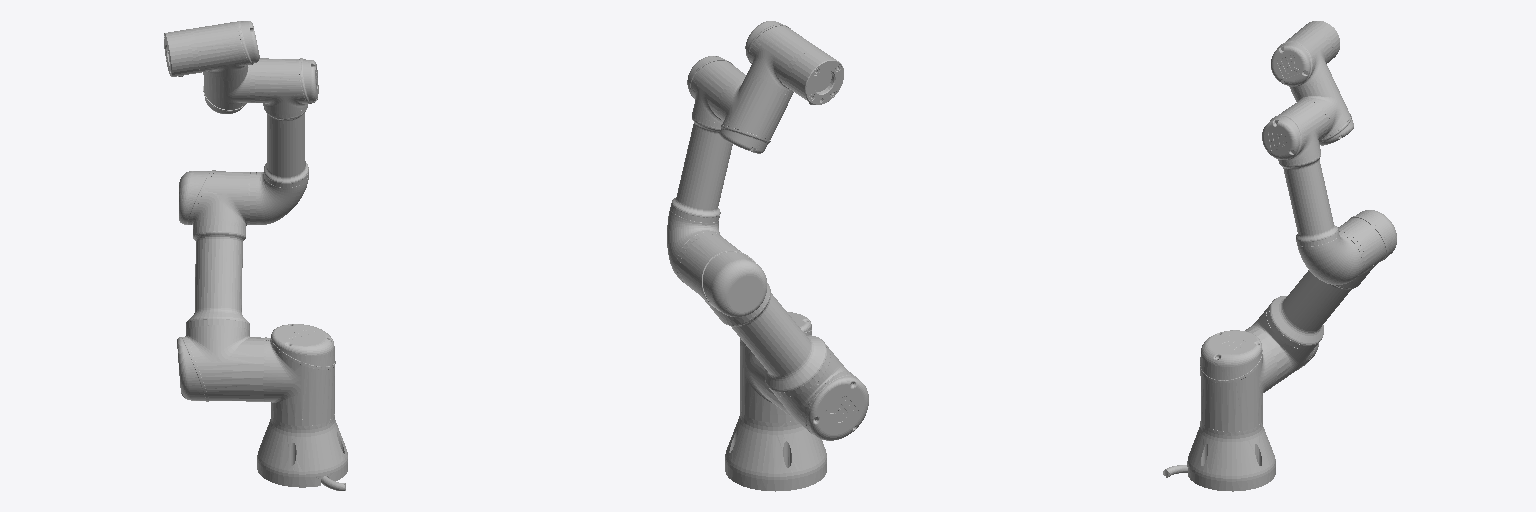
The robot description file, URDF, robot "ur33":
<?xml version="1.0" encoding="utf-8"?>
<!-- This URDF was automatically created by SolidWorks to URDF Exporter! Originally created by [author] ([email redacted]) 
     Commit Version: 1.6.0-4-g7f85cfe  Build Version: 1.6.7995.38578
     For more information, please see http://wiki.ros.org/sw_urdf_exporter -->
<robot
  name="ur33">
  <link
    name="base_link">
    <inertial>
      <origin
        xyz="3.93116168057695E-05 0.046220310995705 0.000808491080125992"
        rpy="0 0 0" />
      <mass
        value="0.615785283013906" />
      <inertia
        ixx="0.000761300764311581"
        ixy="3.53676883539907E-07"
        ixz="-2.98963200654779E-07"
        iyy="0.00100294058166069"
        iyz="3.46585976118834E-06"
        izz="0.000774576499049897" />
    </inertial>
    <visual>
      <origin
        xyz="0 0 0"
        rpy="0 0 0" />
      <geometry>
        <mesh
          filename="package://ur33/meshes/base_link.STL" />
      </geometry>
      <material
        name="">
        <color
          rgba="0.752941176470588 0.752941176470588 0.752941176470588 1" />
      </material>
    </visual>
    <collision>
      <origin
        xyz="0 0 0"
        rpy="0 0 0" />
      <geometry>
        <mesh
          filename="package://ur33/meshes/base_link.STL" />
      </geometry>
    </collision>
  </link>
  <link
    name="link1">
    <inertial>
      <origin
        xyz="6.40625775913872E-06 0.054270421113684 -0.0073384897831299"
        rpy="0 0 0" />
      <mass
        value="0.755651972571794" />
      <inertia
        ixx="0.00106903797369433"
        ixy="9.48353620032472E-08"
        ixz="9.89315736653741E-08"
        iyy="0.000906485139777163"
        iyz="0.000131067701862536"
        izz="0.000990118676481056" />
    </inertial>
    <visual>
      <origin
        xyz="0 0 0"
        rpy="0 0 0" />
      <geometry>
        <mesh
          filename="package://ur33/meshes/link1.STL" />
      </geometry>
      <material
        name="">
        <color
          rgba="0.752941176470588 0.752941176470588 0.752941176470588 1" />
      </material>
    </visual>
    <collision>
      <origin
        xyz="0 0 0"
        rpy="0 0 0" />
      <geometry>
        <mesh
          filename="package://ur33/meshes/link1.STL" />
      </geometry>
    </collision>
  </link>
  <joint
    name="joint1"
    type="continuous">
    <origin
      xyz="0 0 0.08605"
      rpy="1.5708 0 1.0203" />
    <parent
      link="base_link" />
    <child
      link="link1" />
    <axis
      xyz="0 -1 0" />
    <limit
      lower="-3.14"
      upper="3.14"
      effort="100"
      velocity="2" />
  </joint>
  <link
    name="link2">
    <inertial>
      <origin
        xyz="-3.40662919534607E-06 0.105709589894391 -0.116589773897471"
        rpy="0 0 0" />
      <mass
        value="1.80164817391607" />
      <inertia
        ixx="0.00264980120870353"
        ixy="1.00358855444061E-07"
        ixz="8.54007575295211E-08"
        iyy="0.00166988003581637"
        iyz="8.10906621570899E-05"
        izz="0.0025172679877967" />
    </inertial>
    <visual>
      <origin
        xyz="0 0 0"
        rpy="0 0 0" />
      <geometry>
        <mesh
          filename="package://ur33/meshes/link2.STL" />
      </geometry>
      <material
        name="">
        <color
          rgba="0.752941176470588 0.752941176470588 0.752941176470588 1" />
      </material>
    </visual>
    <collision>
      <origin
        xyz="0 0 0"
        rpy="0 0 0" />
      <geometry>
        <mesh
          filename="package://ur33/meshes/link2.STL" />
      </geometry>
    </collision>
  </link>
  <joint
    name="joint2"
    type="continuous">
    <origin
      xyz="0 0.06585 0"
      rpy="0 0 -0.6205" />
    <parent
      link="link1" />
    <child
      link="link2" />
    <axis
      xyz="0 0 1" />
    <limit
      lower="-3.14"
      upper="3.14"
      effort="100"
      velocity="2" />
  </joint>
  <link
    name="link3">
    <inertial>
      <origin
        xyz="2.24339715593214E-06 0.111202714258687 -0.0317831977238209"
        rpy="0 0 0" />
      <mass
        value="0.962318952715275" />
      <inertia
        ixx="0.00107272032844326"
        ixy="2.02715758953269E-08"
        ixz="4.87756162548128E-09"
        iyy="0.000542662095833821"
        iyz="-4.61078716735541E-05"
        izz="0.00101486278864245" />
    </inertial>
    <visual>
      <origin
        xyz="0 0 0"
        rpy="0 0 0" />
      <geometry>
        <mesh
          filename="package://ur33/meshes/link3.STL" />
      </geometry>
      <material
        name="">
        <color
          rgba="0.752941176470588 0.752941176470588 0.752941176470588 1" />
      </material>
    </visual>
    <collision>
      <origin
        xyz="0 0 0"
        rpy="0 0 0" />
      <geometry>
        <mesh
          filename="package://ur33/meshes/link3.STL" />
      </geometry>
    </collision>
  </link>
  <joint
    name="joint3"
    type="continuous">
    <origin
      xyz="0 0.24365 0"
      rpy="0 0 0.8683" />
    <parent
      link="link2" />
    <child
      link="link3" />
    <axis
      xyz="0 0 1" />
    <limit
      lower="-3.14"
      upper="3.14"
      effort="100"
      velocity="2" />
  </joint>
  <link
    name="link4">
    <inertial>
      <origin
        xyz="-6.99518387436981E-06 -0.000517780620435226 -0.0835319337644838"
        rpy="0 0 0" />
      <mass
        value="0.32531348575404" />
      <inertia
        ixx="0.000226231397858026"
        ixy="-2.0344125053814E-09"
        ixz="2.89652917661909E-09"
        iyy="0.000199092283222693"
        iyz="1.83494653286662E-05"
        izz="0.000194599812294664" />
    </inertial>
    <visual>
      <origin
        xyz="0 0 0"
        rpy="0 0 0" />
      <geometry>
        <mesh
          filename="package://ur33/meshes/link4.STL" />
      </geometry>
      <material
        name="">
        <color
          rgba="0.752941176470588 0.752941176470588 0.752941176470588 1" />
      </material>
    </visual>
    <collision>
      <origin
        xyz="0 0 0"
        rpy="0 0 0" />
      <geometry>
        <mesh
          filename="package://ur33/meshes/link4.STL" />
      </geometry>
    </collision>
  </link>
  <joint
    name="joint4"
    type="continuous">
    <origin
      xyz="0 0.213 -0.020582"
      rpy="0 0 0.26969" />
    <parent
      link="link3" />
    <child
      link="link4" />
    <axis
      xyz="0 0 -1" />
    <limit
      lower="-3.14"
      upper="3.14"
      effort="100"
      velocity="2" />
  </joint>
  <link
    name="link5">
    <inertial>
      <origin
        xyz="6.56426410944322E-06 0.056262773239218 0.000517430710179519"
        rpy="0 0 0" />
      <mass
        value="0.32530414179325" />
      <inertia
        ixx="0.000226236571289682"
        ixy="1.56280273461439E-09"
        ixz="-1.73901773998397E-09"
        iyy="0.000194601321220823"
        iyz="1.8349376883379E-05"
        izz="0.00019910302320403" />
    </inertial>
    <visual>
      <origin
        xyz="0 0 0"
        rpy="0 0 0" />
      <geometry>
        <mesh
          filename="package://ur33/meshes/link5.STL" />
      </geometry>
      <material
        name="">
        <color
          rgba="0.752941176470588 0.752941176470588 0.752941176470588 1" />
      </material>
    </visual>
    <collision>
      <origin
        xyz="0 0 0"
        rpy="0 0 0" />
      <geometry>
        <mesh
          filename="package://ur33/meshes/link5.STL" />
      </geometry>
    </collision>
  </link>
  <joint
    name="joint5"
    type="continuous">
    <origin
      xyz="0 0.021213 -0.089457"
      rpy="0 0.20651 0" />
    <parent
      link="link4" />
    <child
      link="link5" />
    <axis
      xyz="0 0 -1" />
    <limit
      lower="-3.14"
      upper="3.14"
      effort="100"
      velocity="2" />
  </joint>
  <link
    name="link6">
    <inertial>
      <origin
        xyz="-3.42017217325186E-09 -0.000103313227807433 -0.0496689201397846"
        rpy="0 0 0" />
      <mass
        value="0.115355209052266" />
      <inertia
        ixx="4.24687738288343E-05"
        ixy="8.28353260952953E-12"
        ixz="4.20982546528648E-12"
        iyy="4.2681447202874E-05"
        iyz="-1.03222414801979E-07"
        izz="5.90666201317262E-05" />
    </inertial>
    <visual>
      <origin
        xyz="0 0 0"
        rpy="0 0 0" />
      <geometry>
        <mesh
          filename="package://ur33/meshes/link6.STL" />
      </geometry>
      <material
        name="">
        <color
          rgba="0.752941176470588 0.752941176470588 0.752941176470588 1" />
      </material>
    </visual>
    <collision>
      <origin
        xyz="0 0 0"
        rpy="0 0 0" />
      <geometry>
        <mesh
          filename="package://ur33/meshes/link6.STL" />
      </geometry>
    </collision>
  </link>
  <joint
    name="joint6"
    type="continuous">
    <origin
      xyz="0 0.062187 -0.012304"
      rpy="0 0 2.7699" />
    <parent
      link="link5" />
    <child
      link="link6" />
    <axis
      xyz="0 0 -1" />
    <limit
      lower="-3.14"
      upper="3.14"
      effort="100"
      velocity="2" />
  </joint>
</robot>

--- What the picture shows (computed from the rendered views, not written in the file) ---
The picture shows the robot from 3 angles, left to right: view 1: azimuth 30°, elevation 25°; view 2: azimuth 150°, elevation 25°; view 3: azimuth 270°, elevation 25°; orthographic projection.
Robot: ur33 — 7 links, 6 joints (6 continuous); root link base_link; default pose: every joint at zero.
Links seen in each view (by area): view 1: link2, link3, link1, base_link, link5, link4, link6; view 2: link2, link3, base_link, link4, link5, link6, link1; view 3: link3, link2, link1, base_link, link5, link4, link6.
Link boxes in pixels (bbox=[...]): link2: bbox=[177, 170, 263, 401]; link3: bbox=[250, 58, 318, 224]; link1: bbox=[263, 324, 335, 425]; base_link: bbox=[257, 414, 347, 490]; link5: bbox=[193, 21, 259, 80]; link4: bbox=[203, 63, 254, 113]; link6: bbox=[164, 29, 198, 76]; link2: bbox=[680, 235, 868, 440]; link3: bbox=[667, 56, 745, 282]; base_link: bbox=[725, 409, 826, 491]; link4: bbox=[718, 74, 791, 153]; link5: bbox=[745, 21, 817, 95]; link6: bbox=[786, 47, 843, 104]; link1: bbox=[740, 312, 811, 422]; link3: bbox=[1262, 100, 1364, 284]; link2: bbox=[1245, 210, 1396, 388]; link1: bbox=[1200, 330, 1277, 431]; base_link: bbox=[1163, 420, 1275, 491]; link5: bbox=[1271, 29, 1330, 92]; link4: bbox=[1292, 74, 1353, 145]; link6: bbox=[1299, 21, 1339, 62].
Size in the robot's own frame: 0.2427 by 0.3389 by 0.6642 metres.
Meshes: 7 distinct files referenced, 7 mesh visuals loaded (7 binary STL).
